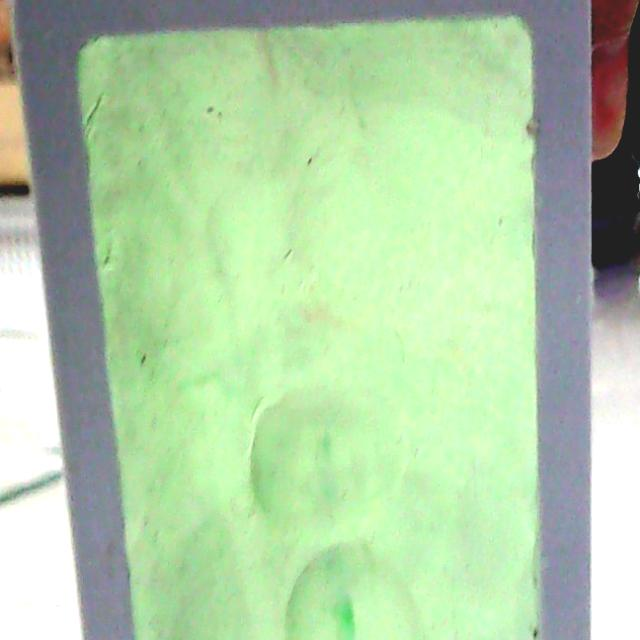block: (6, 0, 596, 635)
